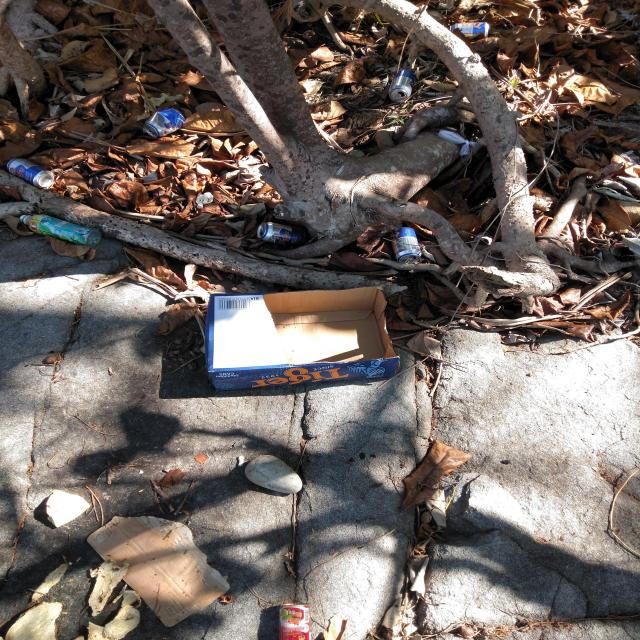litter: (205, 285, 401, 391), (88, 516, 230, 627), (20, 214, 102, 248), (6, 158, 55, 188), (143, 107, 186, 138), (388, 227, 423, 264), (257, 222, 307, 247), (279, 603, 311, 640), (438, 129, 476, 156), (388, 70, 416, 102), (450, 21, 489, 37), (196, 192, 214, 208), (610, 244, 628, 257), (348, 150, 365, 158)
